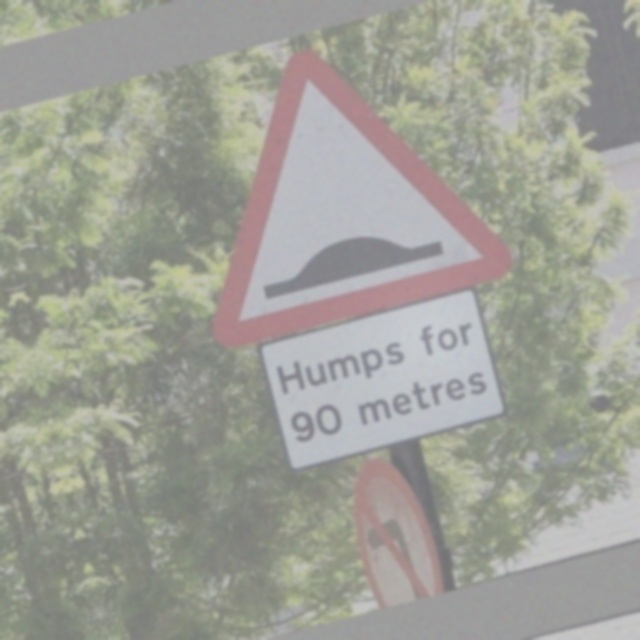Hump_or_Rough_Road: (163, 21, 498, 345)
